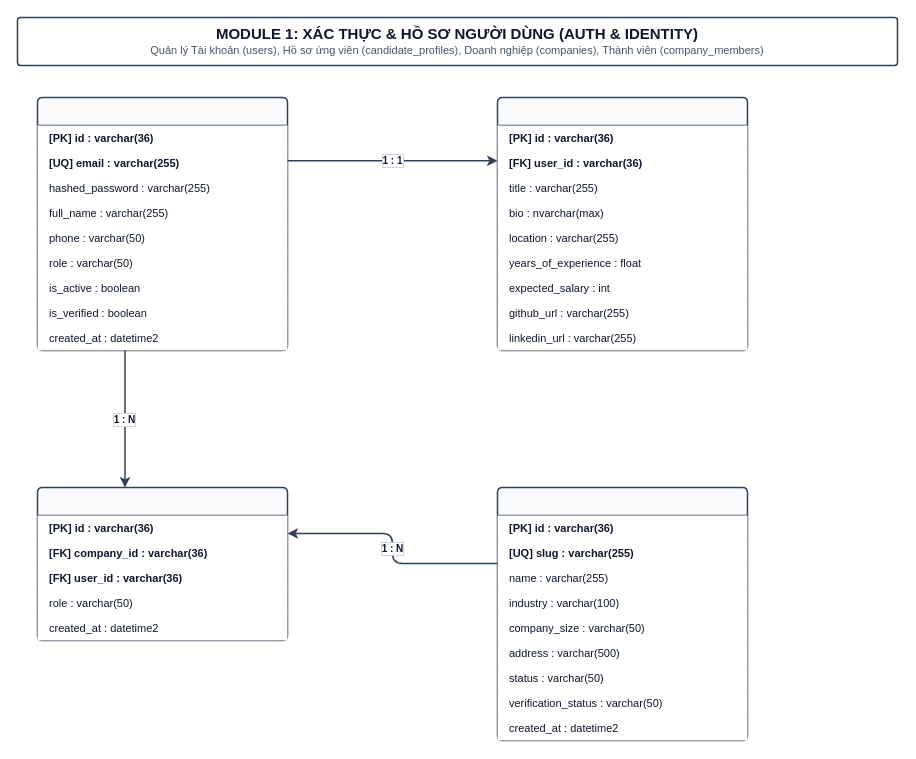
The diagram is 916 pixels wide and 759 high, and some of its shapes have lost their labels. Here are the shapes that lost their labels. From the top down, the box of each, then its label:
(36, 96, 288, 351): users (auth)
(496, 96, 748, 351): candidate_profiles (auth)
(36, 486, 288, 641): company_members (auth)
(496, 486, 748, 741): companies (auth)
